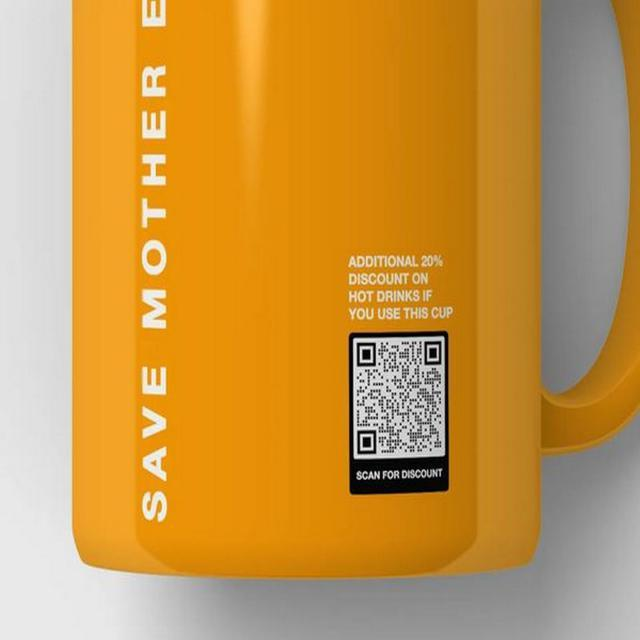qr_code: (356, 341, 443, 454)
